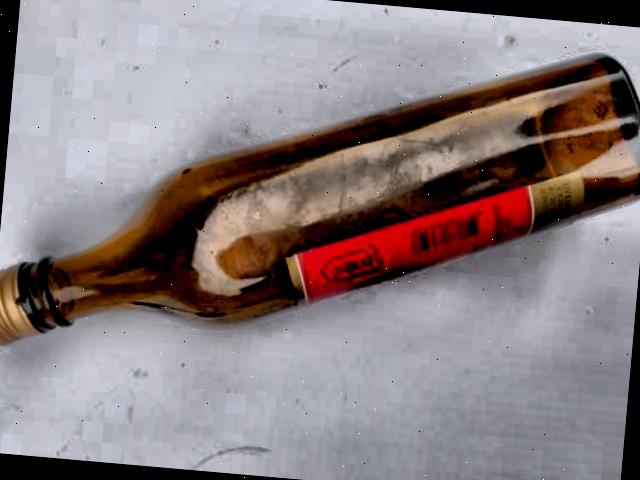Bottles: (0, 0, 640, 448)
